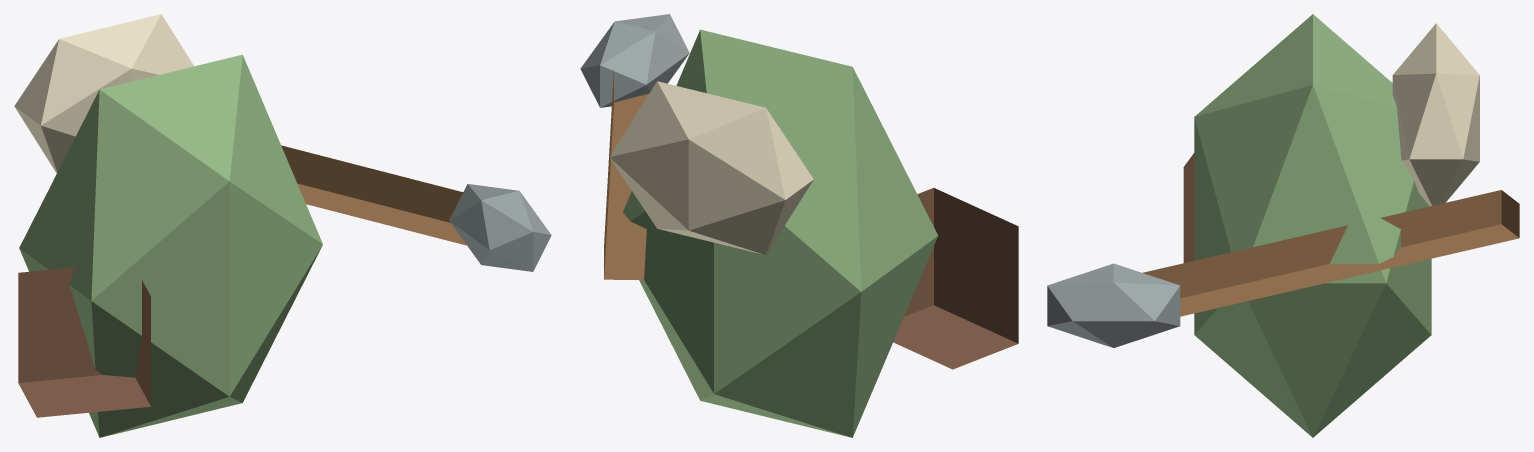
Rendered from enemy_scout.glb.
The picture shows the model from 3 angles, left to right: view 1: azimuth 30°, elevation 25°; view 2: azimuth 150°, elevation 25°; view 3: azimuth 270°, elevation 25°; orthographic projection. The views are drawn at different scales.
Visible parts, largest first — view 1: body, satchel, mask, spear, spear_tip; view 2: body, mask, satchel, spear_tip, spear; view 3: body, spear, mask, spear_tip, satchel.
Boxes of the visible parts, x1,y1,x2,y2 form: body: (19, 54, 322, 437); satchel: (18, 267, 150, 417); mask: (14, 14, 193, 173); spear: (281, 145, 468, 245); spear_tip: (449, 184, 551, 271); body: (623, 29, 938, 437); mask: (609, 81, 813, 255); satchel: (893, 188, 1018, 369); spear_tip: (580, 14, 689, 107); spear: (604, 70, 648, 279); body: (1194, 14, 1431, 437); spear: (1142, 190, 1519, 316); mask: (1392, 23, 1479, 206); spear_tip: (1047, 263, 1180, 347); satchel: (1183, 153, 1194, 262).
Size of the model in its own units: 1.09 by 0.8242 by 0.9964.
